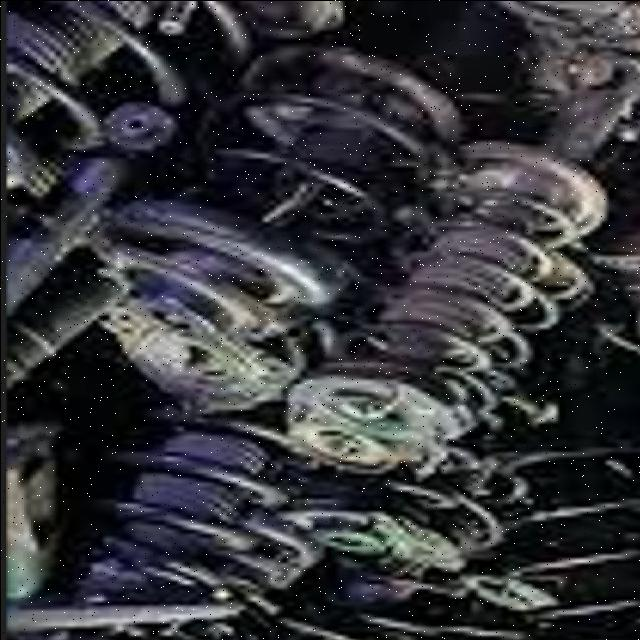shock absorber: (283, 54, 637, 446), (92, 44, 463, 341)
